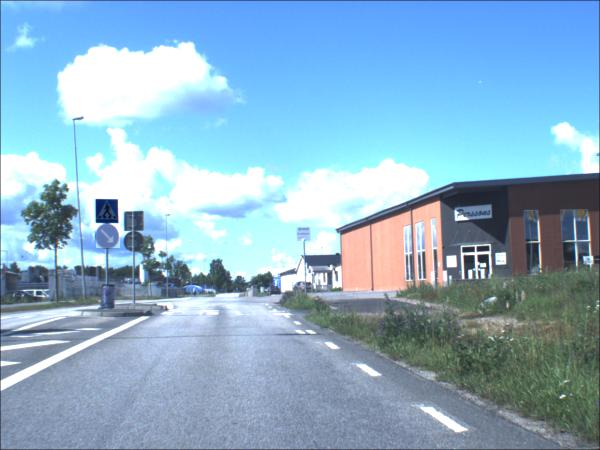PASS_RIGHT_SIDE: (97, 225, 122, 250)
PEDESTRIAN_CROSSING: (97, 200, 120, 225)
